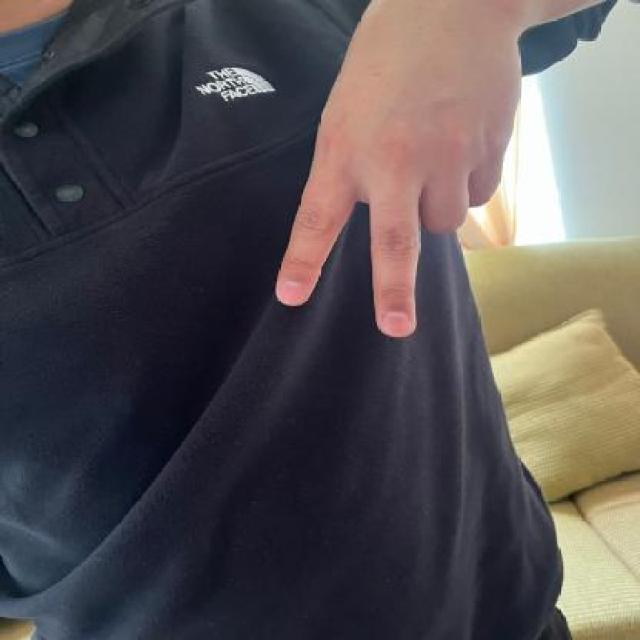N: (272, 6, 526, 349)
